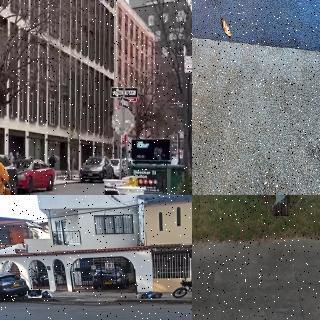Garbage: (267, 195, 290, 215), (28, 290, 42, 298), (40, 291, 51, 298), (152, 292, 163, 298), (140, 293, 148, 299), (48, 292, 54, 298), (147, 293, 153, 298)
